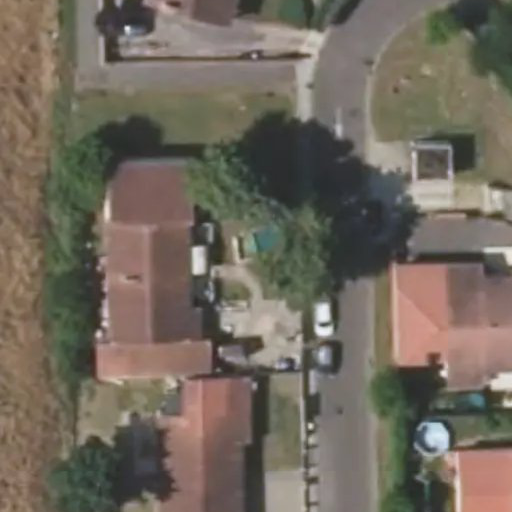pool: (226, 232, 288, 247)
